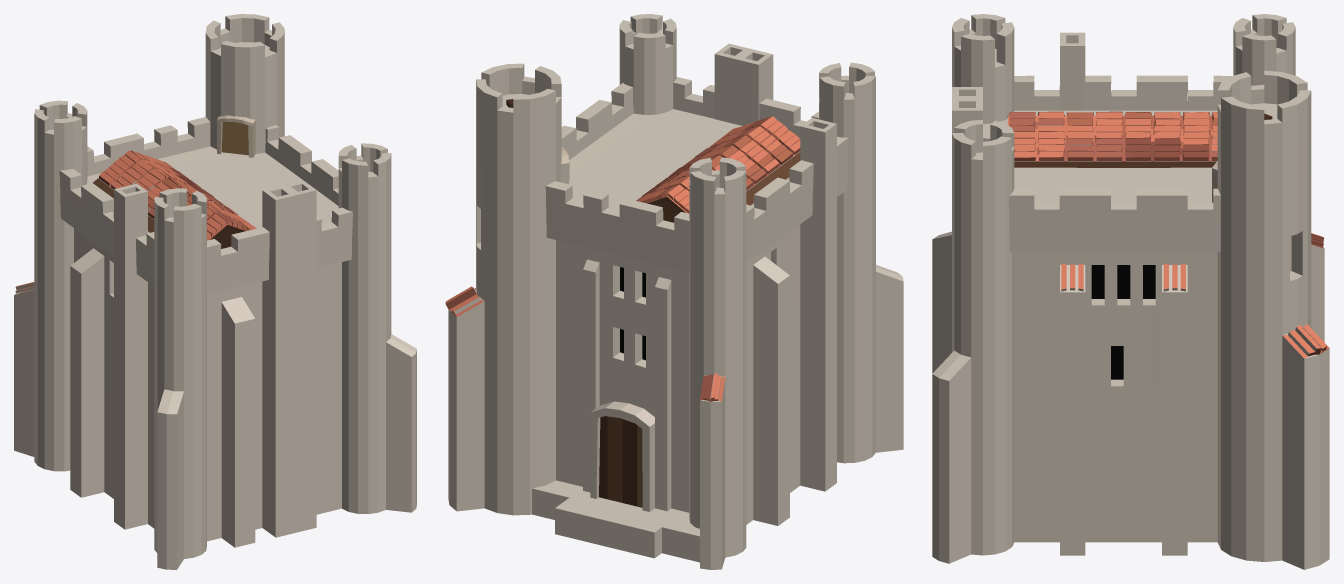
Rendered from normankeeptextured.fbx.
3 renders of one model, left to right at view 1: azimuth 30°, elevation 25°; view 2: azimuth 150°, elevation 25°; view 3: azimuth 270°, elevation 25°, orthographic. The views are drawn at different scales.
Parts seen in each view (by area): view 1: Cube; view 2: Cube; view 3: Cube.
Boxes of the visible parts, bbox=[...] form: Cube: bbox=[14, 14, 416, 569]; Cube: bbox=[445, 14, 903, 569]; Cube: bbox=[932, 14, 1329, 569].
Bounding box in the file's own units: 2346 × 3191 × 2544.
1 material, 1 textured.
